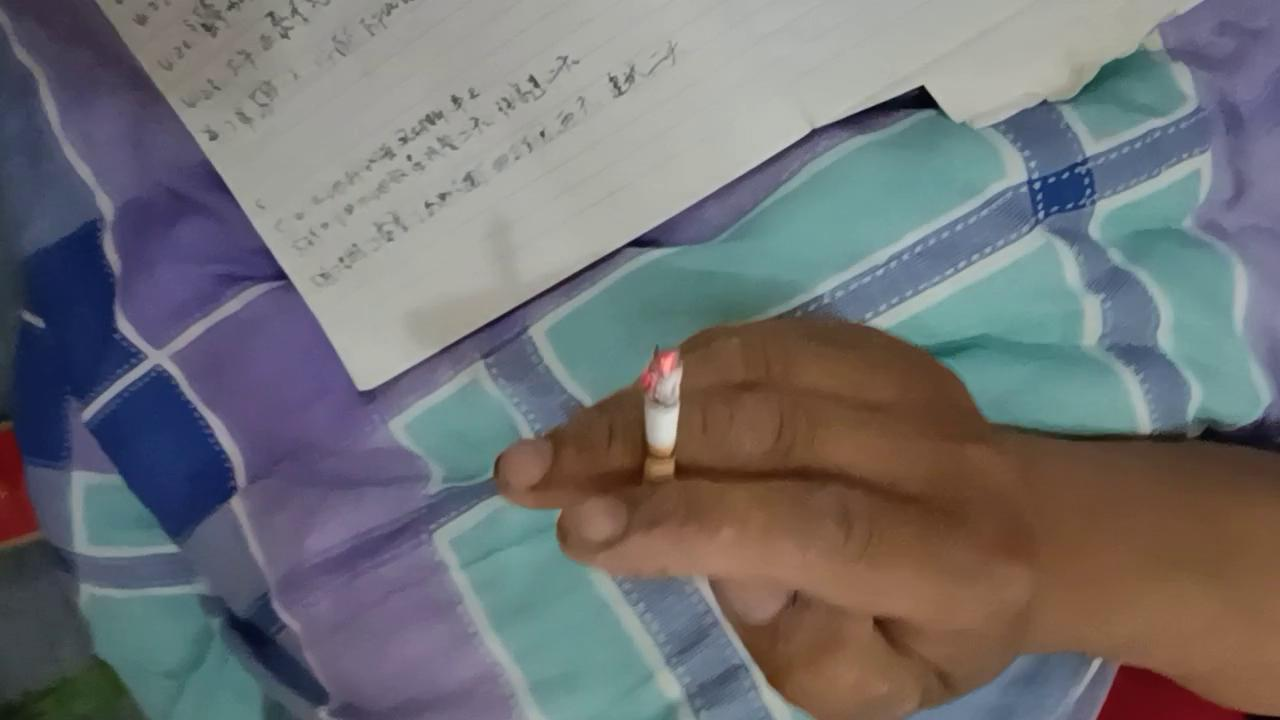smoke: (644, 346, 686, 503)
